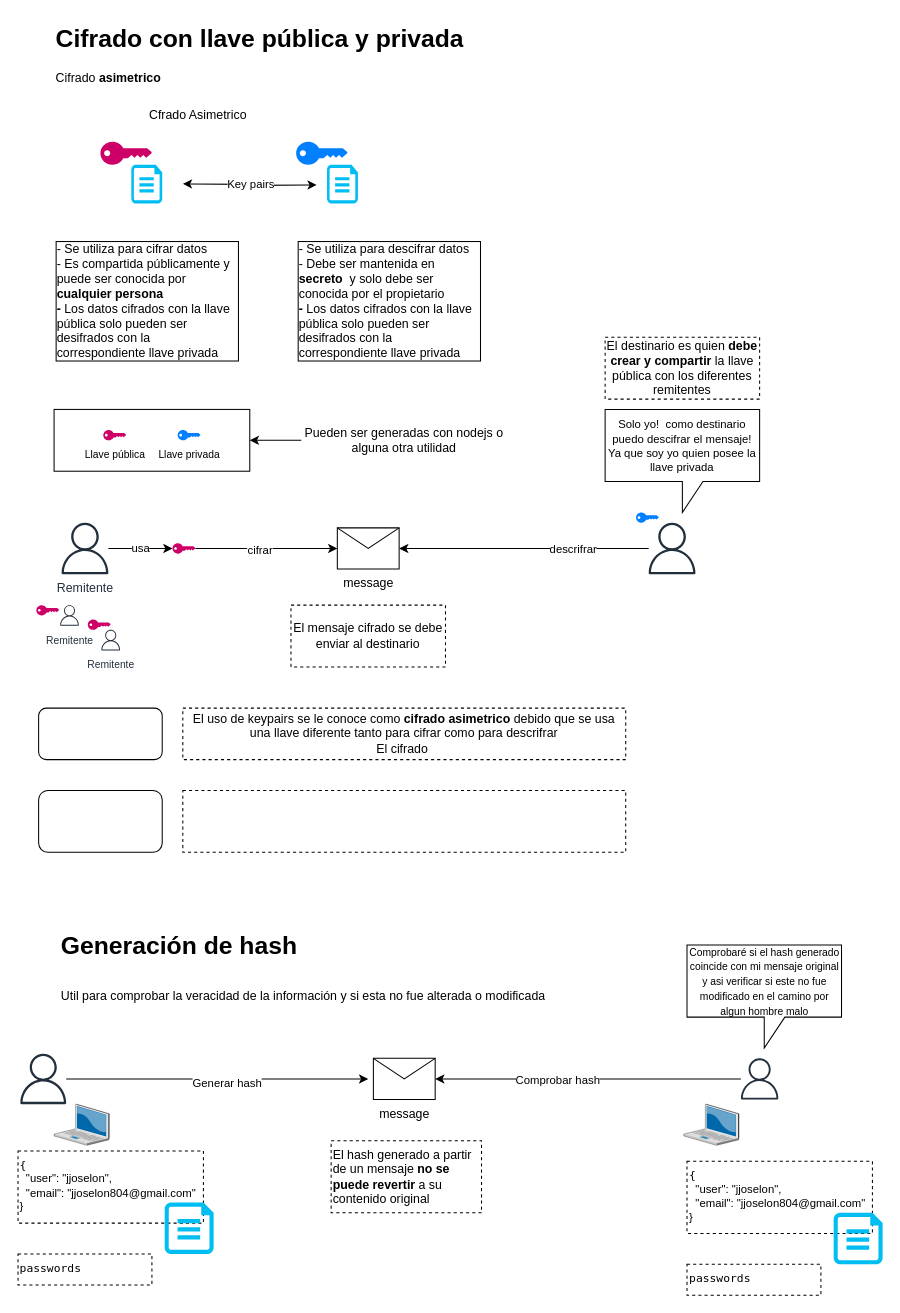
The diagram is 900 pixels wide and 1313 high, and some of its shapes have lost their labels. Here are the shapes that lost their labels. From the top down, the box of each, then its label:
(131, 164, 162, 203): Public key
(327, 164, 357, 203): Private key
(646, 522, 697, 574): Destinatario
(38, 707, 162, 760): cifrado asimetrico
(38, 789, 162, 852): cifrado simetrico
(182, 789, 626, 852): Cuando se utiliza una misma clave secreta para cifrar como para descifrar
(18, 1053, 68, 1104): Origen
(739, 1058, 780, 1099): Destino
